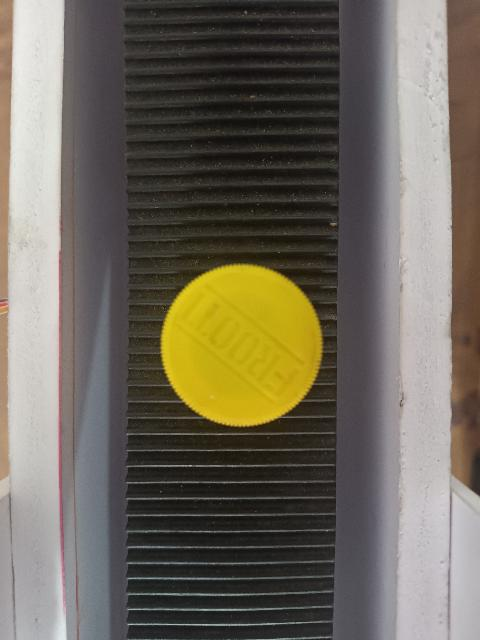bottlecap: (162, 260, 324, 432)
